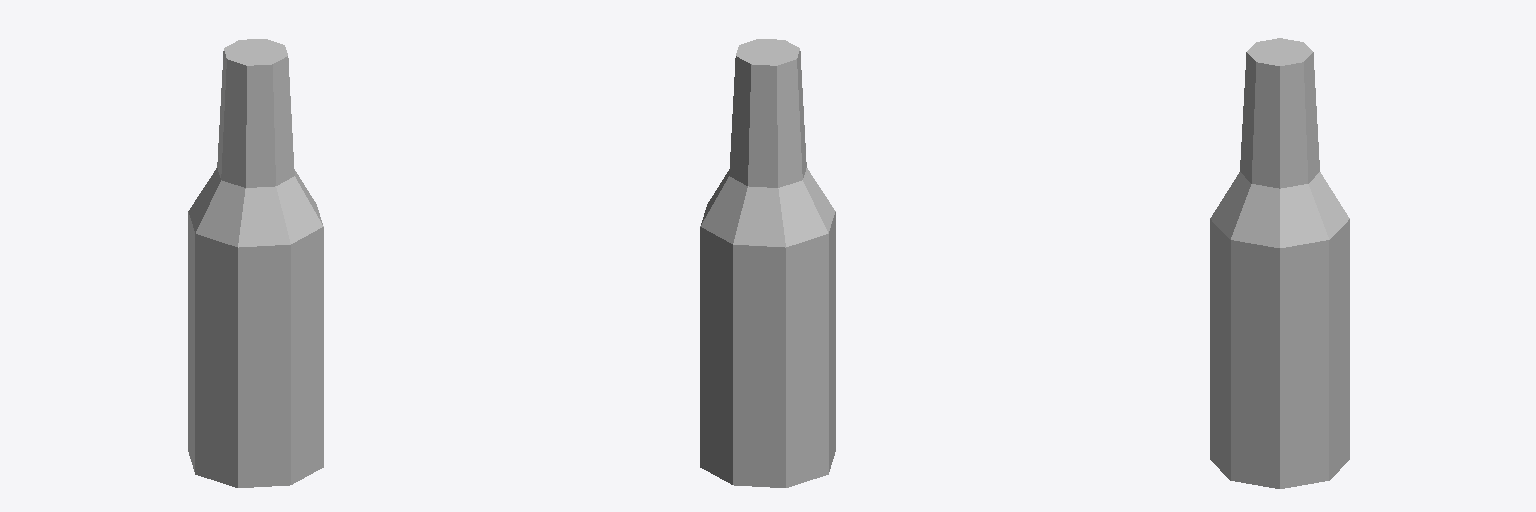
File: VG_Bottle.obj
The picture shows the model from 3 angles: view 1: azimuth 30°, elevation 25°; view 2: azimuth 150°, elevation 25°; view 3: azimuth 270°, elevation 25°; orthographic projection.
Visible parts, largest first — view 1: cylinder2; view 2: cylinder2; view 3: cylinder2.
Boxes of the visible parts, x1=… form: cylinder2: x1=188, y1=39, x2=323, y2=487; cylinder2: x1=700, y1=39, x2=835, y2=487; cylinder2: x1=1210, y1=38, x2=1349, y2=488.
Size of the model in its own units: 0.56 by 1.8 by 0.56.